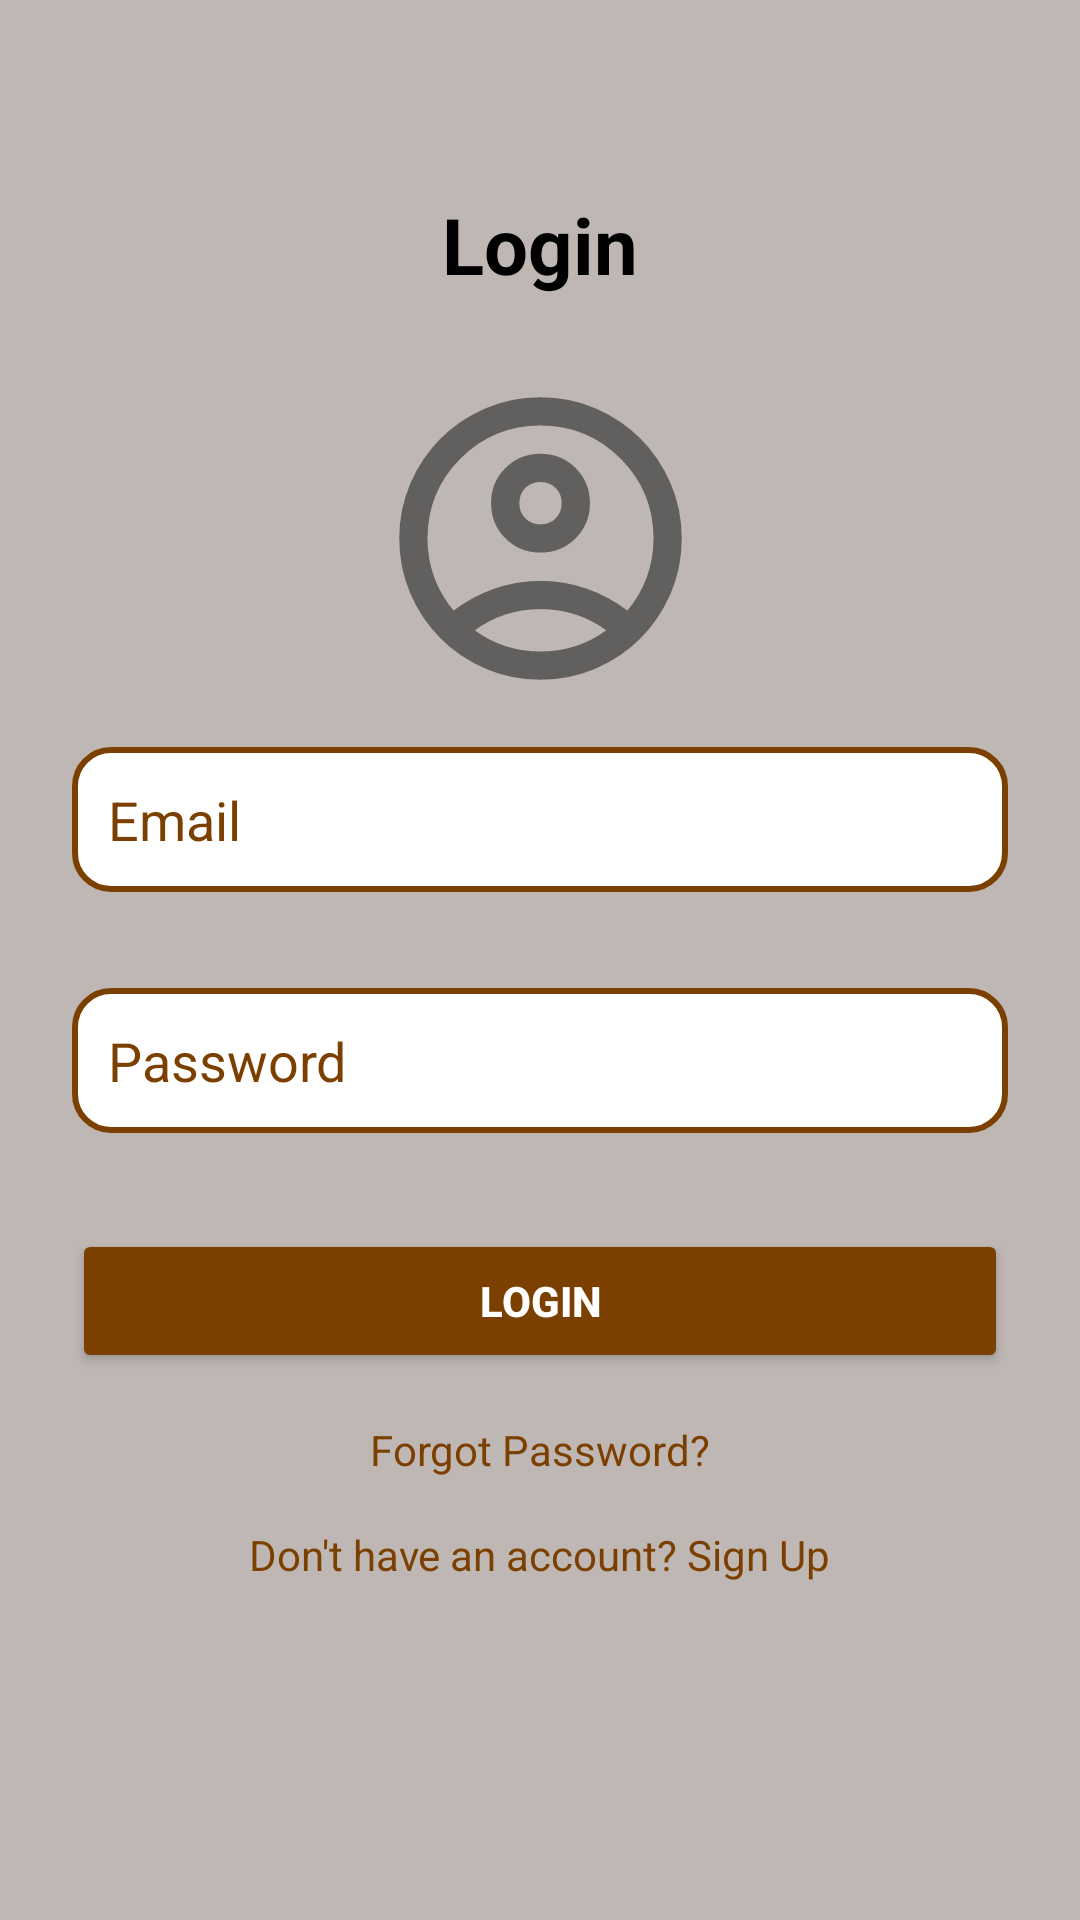

Locate icon controls on the screen. Image size 1080w x 1920h, boxes as (x1, y1, x2, y2).
account circle: (399, 397, 682, 680)
